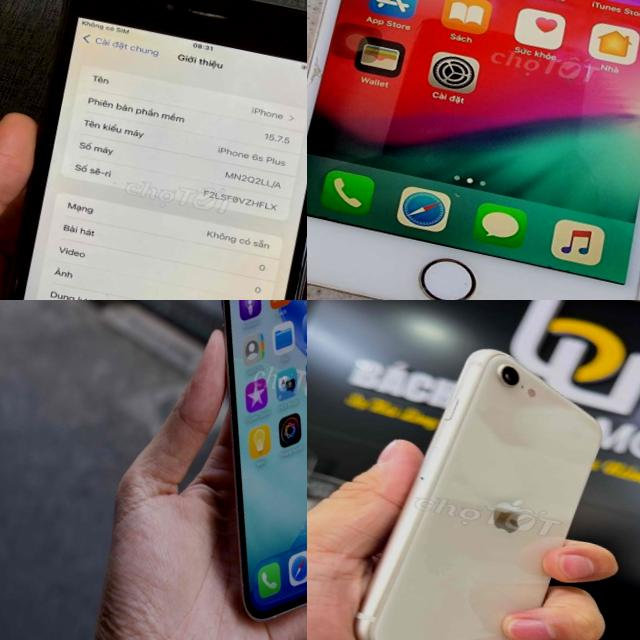gen_17: (137, 300, 307, 640)
gen_6: (307, 0, 640, 300), (4, 0, 307, 300)
gen_7_8: (339, 320, 629, 640)
